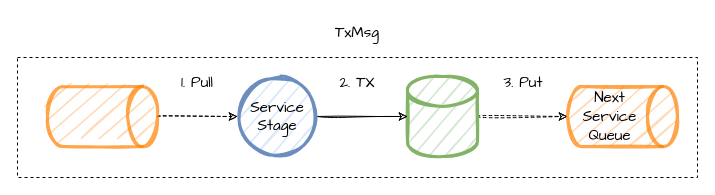
The diagram is 715 pixels wide and 195 high, and some of its shapes have lost their labels. The shapes that lost their labels are listed below. From the top down, each one's centre as x and y in pixels, then its label:
pixel 102 116: Service Queue
pixel 442 116: Service DB
